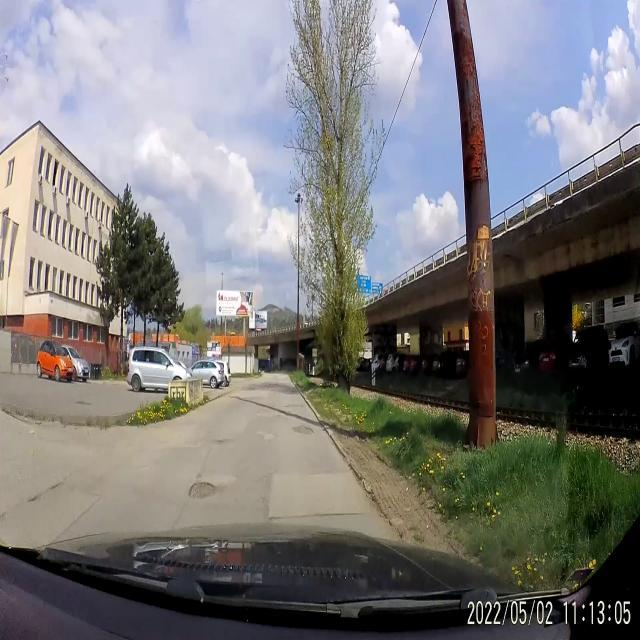Pothole: (26, 467, 71, 523), (186, 467, 222, 505), (288, 415, 318, 443), (210, 430, 236, 452)
